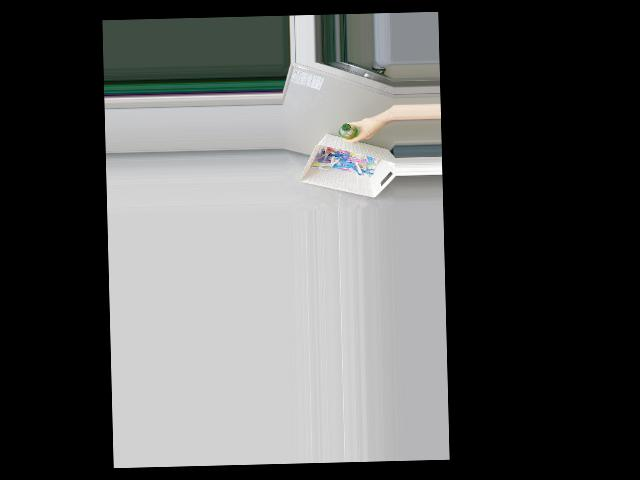beer: (338, 122, 358, 139)
